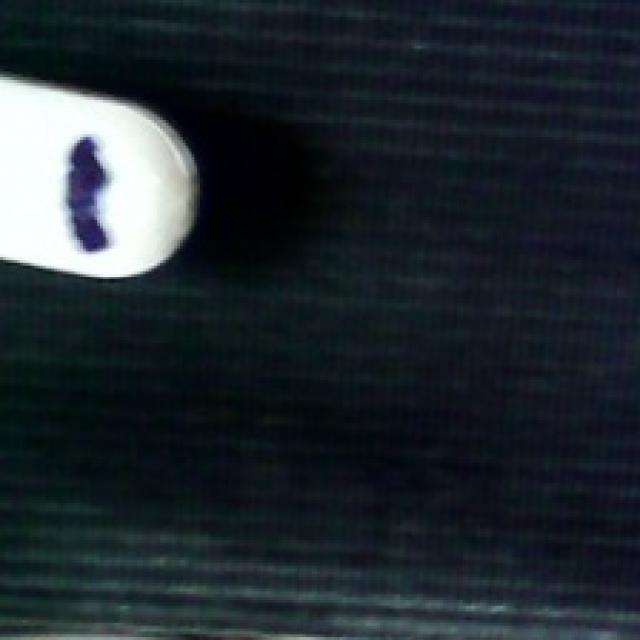defected: (3, 68, 214, 283)
